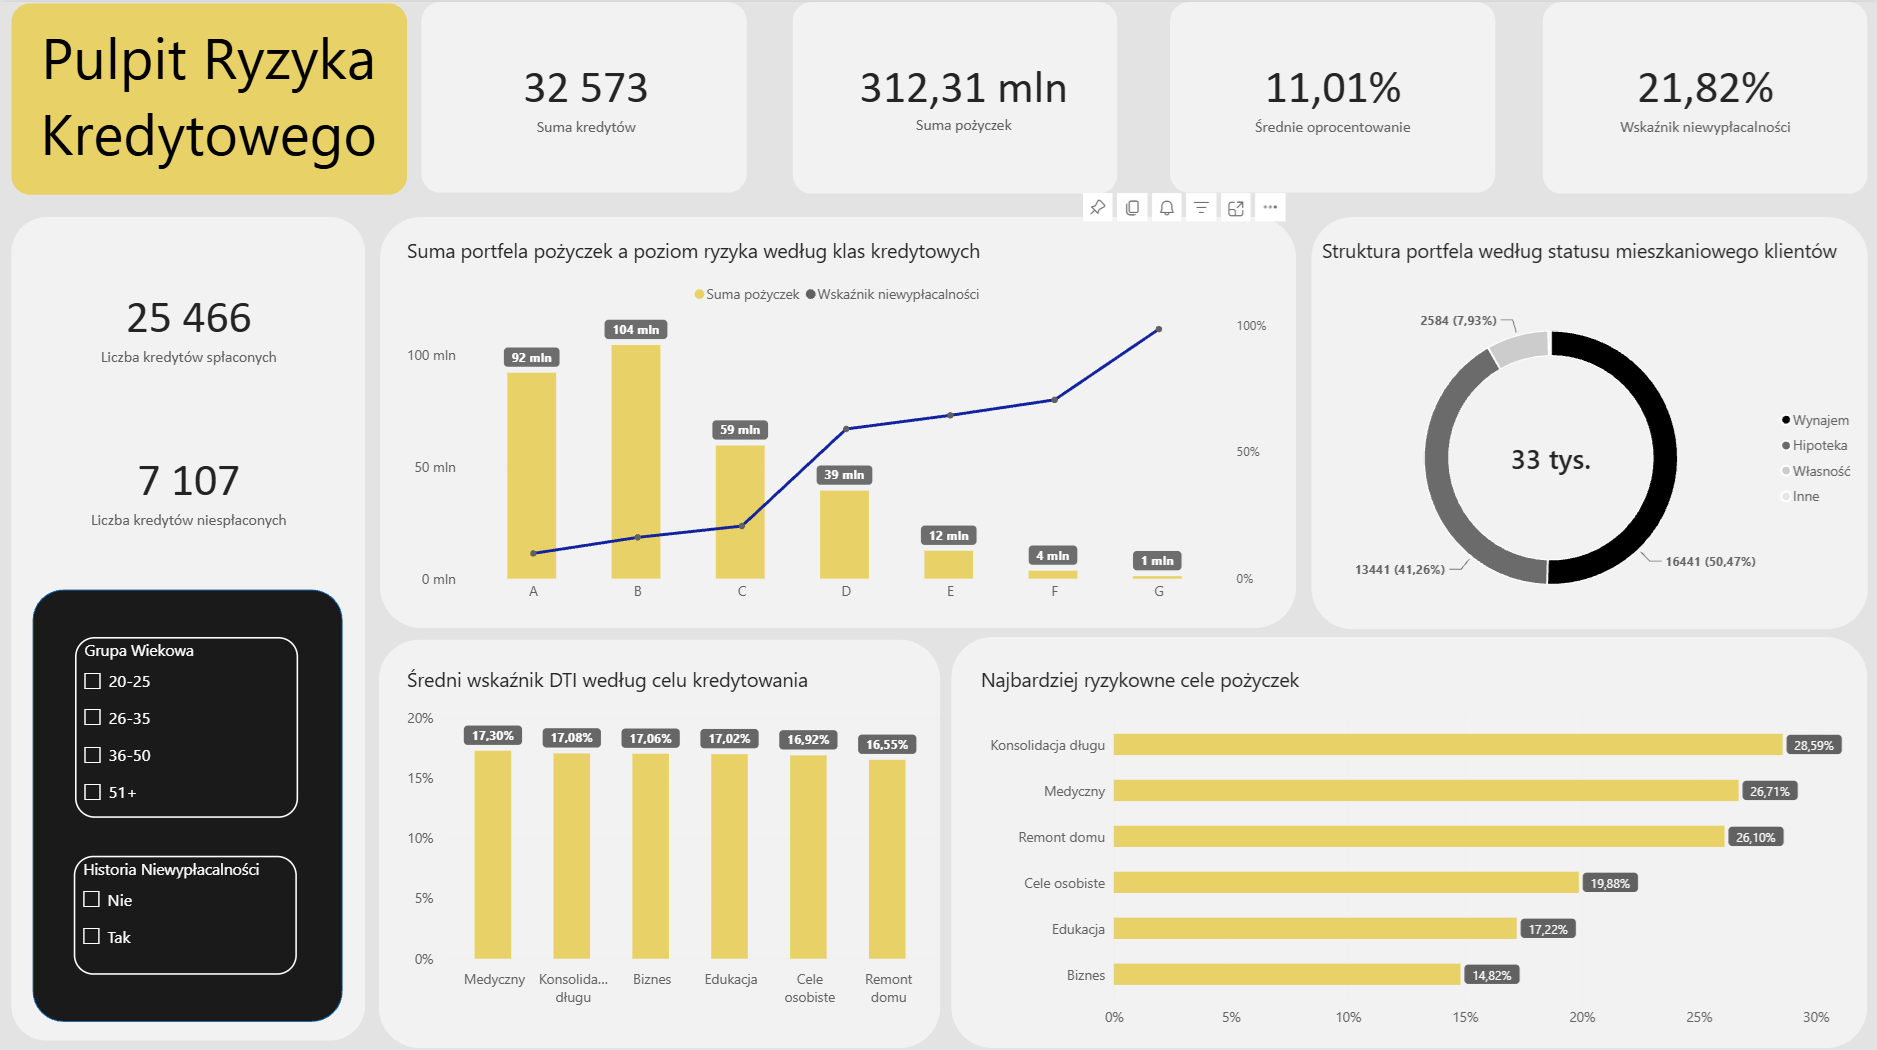

The dashboard page shown, as its layout file describes it:
{"tool":"powerbi","page":{"name":"Pulpit ryzyka kredytowego","canvas":[1920,1080],"ordinal":0},"visuals":[{"type":"shape","box":[11.2,1.9,404.6,195.8],"z":0},{"type":"shape","box":[387.5,651.2,573.8,417.5],"z":1000},{"type":"shape","box":[972.4,649.2,936,420],"z":2000},{"type":"shape","box":[388,220,936,420],"z":3000},{"type":"shape","box":[1340,220,568.8,421.2],"z":4000},{"type":"shape","box":[1576,0,332,196],"z":5000},{"type":"shape","box":[1196,0,332.5,195],"z":6000},{"type":"shape","box":[810,0,332,196],"z":7000},{"type":"shape","box":[430,0,332.5,195],"z":8000},{"type":"shape","title":"k1","box":[11.7,220,361.7,841.7],"z":9000},{"type":"shape","title":"k2","box":[33.6,600.4,317,441.9],"z":10000},{"type":"cardVisual","fields":{"Data":["credit_risk_dataset_cleaned.Suma Pożyczek"]},"box":[856,28,258,138],"z":11000},{"type":"cardVisual","fields":{"Data":["credit_risk_dataset_cleaned.Liczba Kredytów 1"]},"box":[470,27.5,258,140],"z":12000},{"type":"cardVisual","fields":{"Data":["credit_risk_dataset_cleaned.Wskaźnik Niewypłacalności (%)"]},"box":[1614,28,256,140],"z":13000},{"type":"cardVisual","fields":{"Data":["credit_risk_dataset_cleaned.Średnie Oprocentowanie (%)"]},"box":[1234,28,256,140],"z":14000},{"type":"slicer","fields":{"Values":["credit_risk_dataset_cleaned.Grupa Wiekowa"]},"box":[77.2,648.4,228.3,185],"z":15000},{"type":"lineStackedColumnComboChart","title":"Suma portfela pożyczek a poziom ryzyka według klas kredytowych","fields":{"Category":["credit_risk_dataset_cleaned.Klasa Kredytowa"],"Y":["credit_risk_dataset_cleaned.Suma Pożyczek"],"Y2":["credit_risk_dataset_cleaned.Wskaźnik Niewypłacalności (%)"]},"box":[399.4,225.8,914.7,407.2],"z":16000},{"type":"barChart","title":"Najbardziej ryzykowne cele pożyczek","fields":{"Category":["credit_risk_dataset_cleaned.Cel Pożyczki"],"Series":["credit_risk_dataset_cleaned.Cel Pożyczki"],"Y":["credit_risk_dataset_cleaned.Wskaźnik Niewypłacalności (%)"]},"box":[978.5,676.7,922.4,403.3],"z":17000},{"type":"donutChart","title":"Struktura portfela według statusu mieszkaniowego klientów","fields":{"Category":["credit_risk_dataset_cleaned.Status Mieszkaniowy"],"Y":["credit_risk_dataset_cleaned.Liczba Kredytów"]},"box":[1339.5,226.7,580.8,438],"z":18000},{"type":"slicer","fields":{"Values":["credit_risk_dataset_cleaned.Historia Niewypłacalności"]},"box":[75.3,872.2,228.3,121.7],"z":19000},{"type":"textbox","box":[15,15,396,182],"z":20000},{"type":"clusteredColumnChart","title":"Średni wskaźnik DTI według celu kredytowania","fields":{"Category":["credit_risk_dataset_cleaned.Cel Pożyczki"],"Y":["Avg(credit_risk_dataset_cleaned.Udział Pożyczki w Dochodzie (%))"]},"box":[399.4,663.8,576.7,380],"z":21000},{"type":"cardVisual","fields":{"Data":["credit_risk_dataset_cleaned.Liczba Niespłaconych 1"]},"box":[63.4,428.8,258,140],"z":22000},{"type":"cardVisual","fields":{"Data":["credit_risk_dataset_cleaned.Liczba Spłaconych 1"]},"box":[63.4,262.9,258,140],"z":23000}]}

Visuals, with their boxes in screenshot pixels (x1, y1, x2, y2), scaled from the page's 1920x1080 canvas onto the 1877x1050 screenshot:
shape: left=11, top=2, right=406, bottom=192
shape: left=379, top=633, right=940, bottom=1039
shape: left=951, top=631, right=1866, bottom=1040
shape: left=379, top=214, right=1294, bottom=622
shape: left=1310, top=214, right=1866, bottom=623
shape: left=1541, top=0, right=1865, bottom=191
shape: left=1169, top=0, right=1494, bottom=190
shape: left=792, top=0, right=1116, bottom=191
shape: left=420, top=0, right=745, bottom=190
"k1" shape: left=11, top=214, right=365, bottom=1032
"k2" shape: left=33, top=584, right=343, bottom=1013
cardVisual - credit_risk_dataset_cleaned.Suma Pożyczek: left=837, top=27, right=1089, bottom=161
cardVisual - credit_risk_dataset_cleaned.Liczba Kredytów 1: left=459, top=27, right=712, bottom=163
cardVisual - credit_risk_dataset_cleaned.Wskaźnik Niewypłacalności (%): left=1578, top=27, right=1828, bottom=163
cardVisual - credit_risk_dataset_cleaned.Średnie Oprocentowanie (%): left=1206, top=27, right=1457, bottom=163
slicer - credit_risk_dataset_cleaned.Grupa Wiekowa: left=75, top=630, right=299, bottom=810
"Suma portfela pożyczek a poziom ryzyka według klas kredytowych" lineStackedColumnComboChart: left=390, top=220, right=1285, bottom=615
"Najbardziej ryzykowne cele pożyczek" barChart: left=957, top=658, right=1858, bottom=1049
"Struktura portfela według statusu mieszkaniowego klientów" donutChart: left=1310, top=220, right=1876, bottom=646
slicer - credit_risk_dataset_cleaned.Historia Niewypłacalności: left=74, top=848, right=297, bottom=966
textbox: left=15, top=15, right=402, bottom=192
"Średni wskaźnik DTI według celu kredytowania" clusteredColumnChart: left=390, top=645, right=954, bottom=1015
cardVisual - credit_risk_dataset_cleaned.Liczba Niespłaconych 1: left=62, top=417, right=314, bottom=553
cardVisual - credit_risk_dataset_cleaned.Liczba Spłaconych 1: left=62, top=256, right=314, bottom=392
